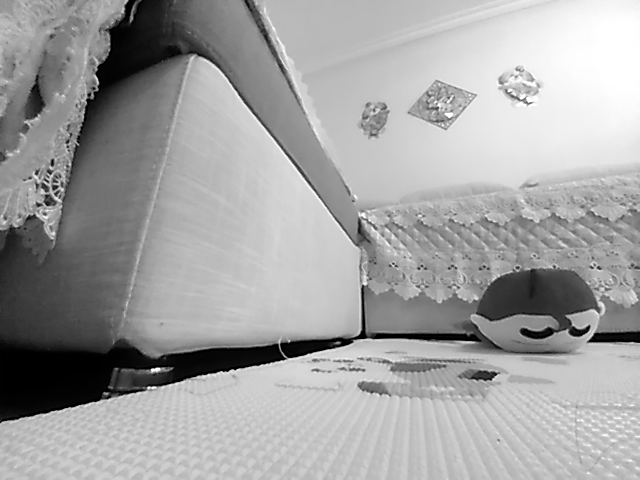toy: (471, 268, 607, 353)
